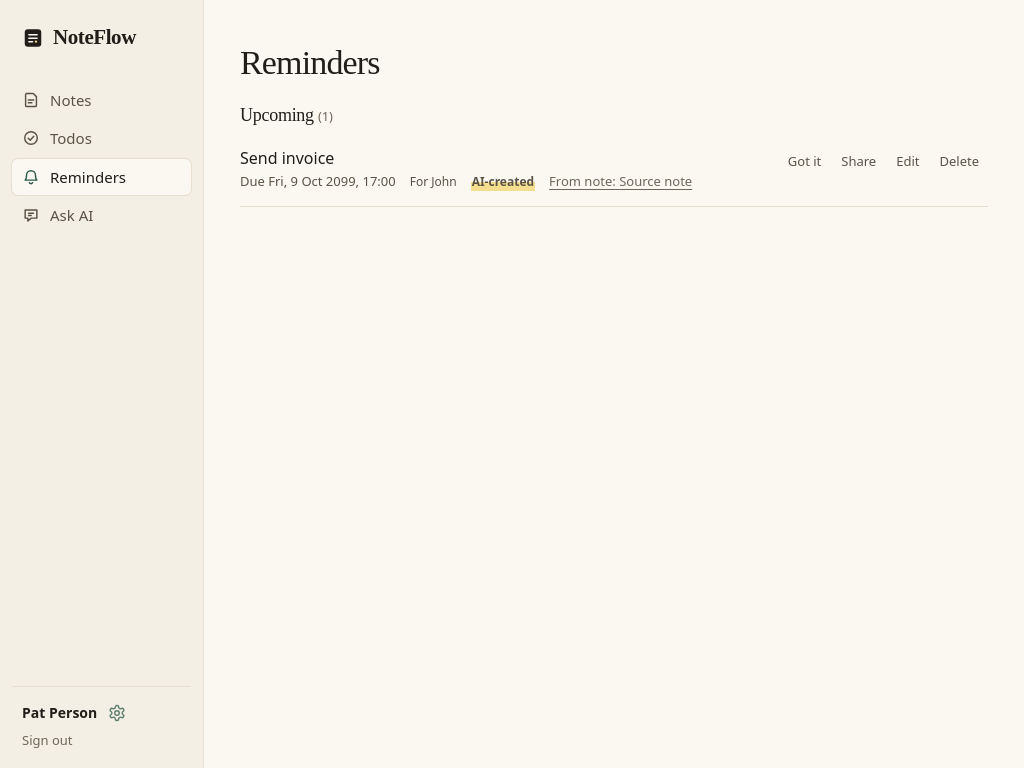
Test: editing › will not save a date without a time
Click the button with aria-label "edit: send invoice".
click(908, 161)  # box [887,147,928,175]
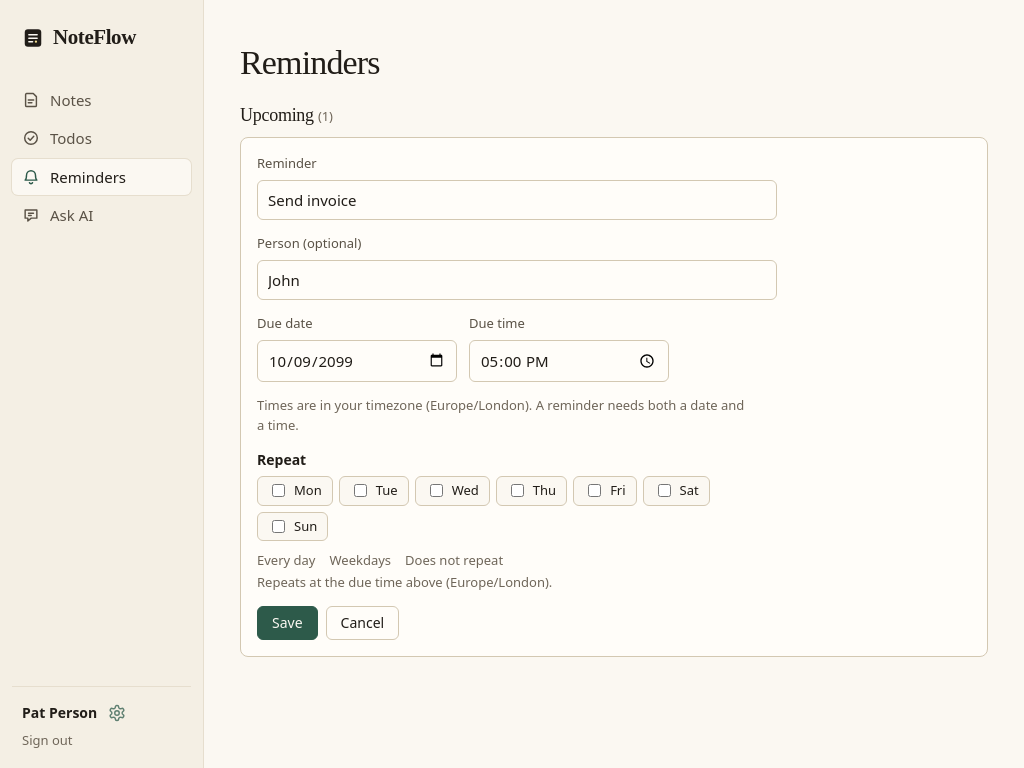
Clear the time field labelled "Due time" at (569, 361), box [469,340,669,382]
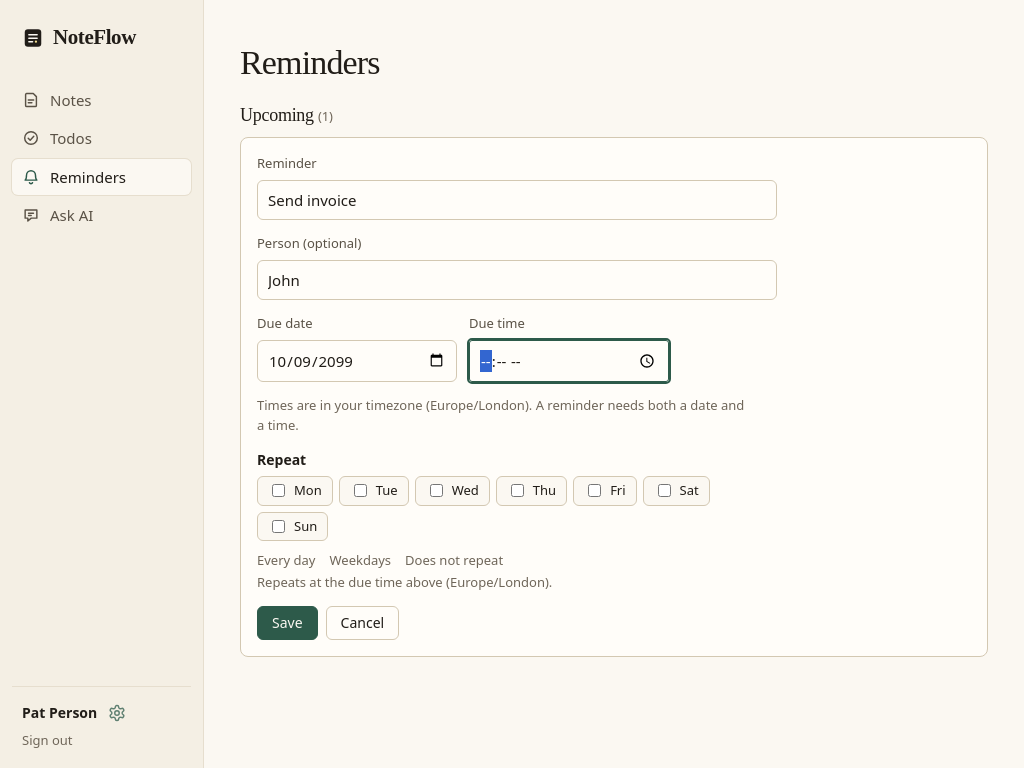
Click the button "Save".
click(287, 623)  # box [257,606,318,640]
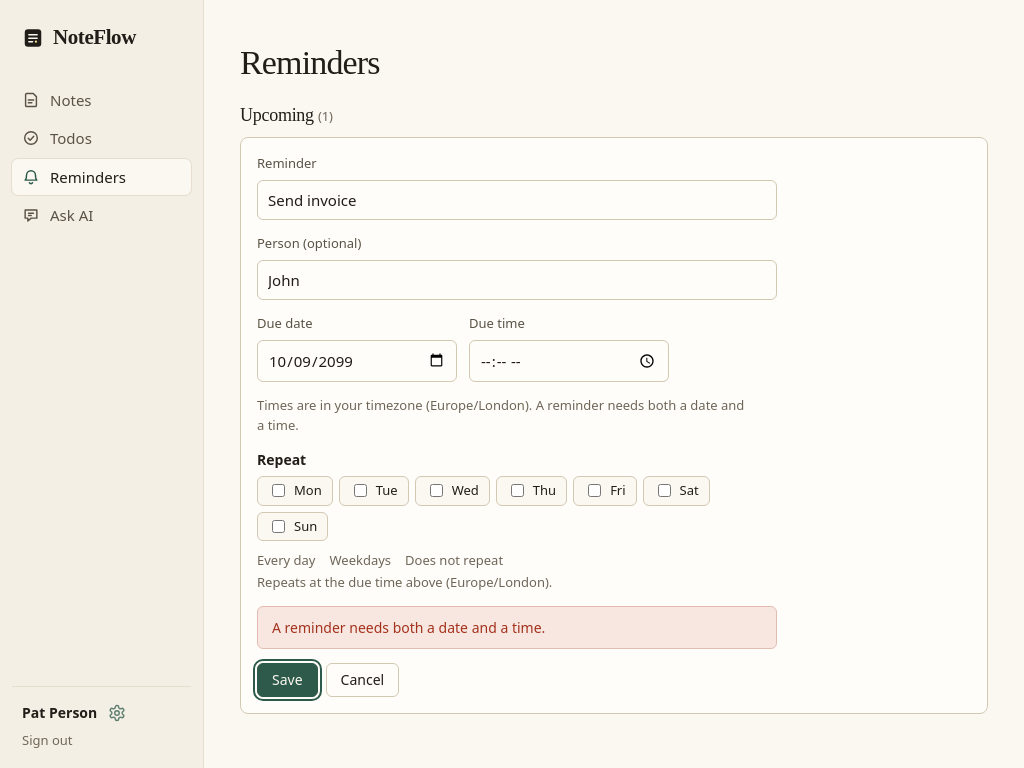
Check: the message shows "needs both a date and a time", box [272,618,545,637]
